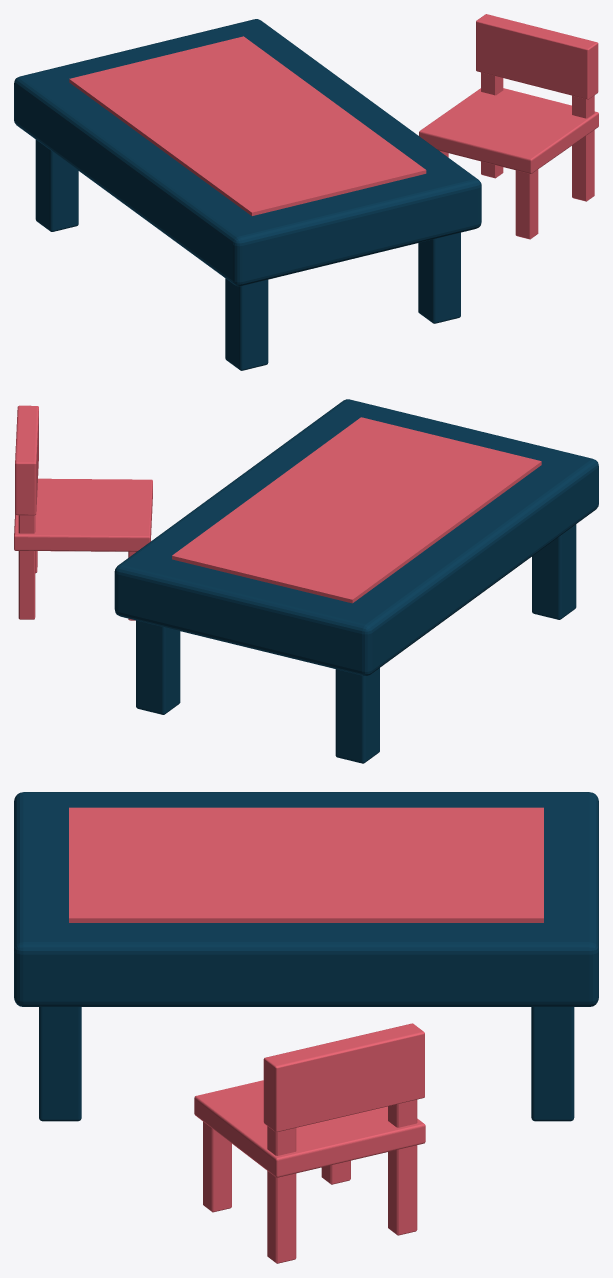
The model's file is deskandchair.glb.
3 renders of one model, top to bottom at view 1: azimuth 30°, elevation 25°; view 2: azimuth 150°, elevation 25°; view 3: azimuth 270°, elevation 25°, orthographic. The views are drawn at different scales.
Visible parts, largest first — view 1: Cube, Cube.005, Cube.006, Cube.002, Cube.001, Cube.004, Cube.007, Cube.010, Cube.008; view 2: Cube, Cube.005, Cube.004, Cube.003, Cube.002, Cube.006, Cube.008; view 3: Cube, Cube.006, Cube.005, Cube.003, Cube.001, Cube.007, Cube.008, Cube.010.
Part boxes in pixels (x1,y1,x2,y2): Cube: (14, 19, 481, 286); Cube.005: (419, 88, 598, 173); Cube.006: (476, 14, 598, 99); Cube.002: (225, 278, 268, 370); Cube.001: (418, 232, 460, 323); Cube.004: (35, 139, 78, 231); Cube.007: (572, 95, 594, 201); Cube.010: (515, 169, 538, 239); Cube.008: (481, 72, 503, 178); Cube: (114, 399, 598, 675); Cube.005: (14, 478, 152, 551); Cube.004: (335, 668, 379, 763); Cube.003: (136, 620, 180, 714); Cube.002: (532, 524, 576, 619); Cube.006: (15, 405, 38, 515); Cube.008: (18, 515, 35, 619); Cube: (14, 792, 598, 1006); Cube.006: (263, 1023, 424, 1132); Cube.005: (194, 1080, 425, 1177); Cube.003: (531, 1007, 574, 1121); Cube.001: (39, 1007, 81, 1121); Cube.007: (267, 1126, 296, 1263); Cube.008: (388, 1099, 417, 1235); Cube.010: (203, 1121, 231, 1212).
Size of the model in its own units: 3.74 by 1.19 by 3.15.
